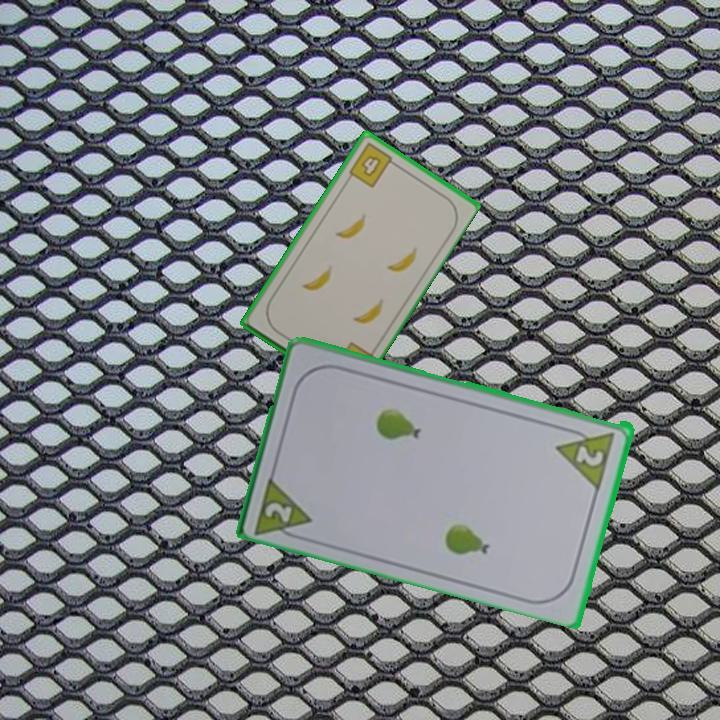2p: (251, 470, 316, 544), (553, 422, 618, 490)
4b: (345, 139, 400, 191)
